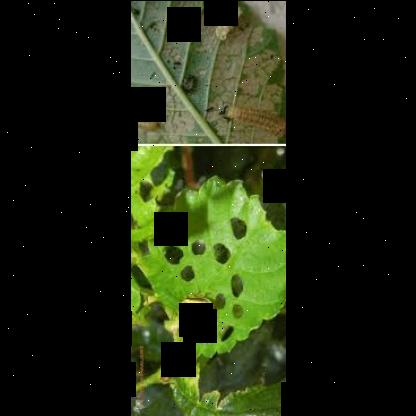agujero: (159, 240, 183, 268), (227, 215, 247, 237), (176, 262, 198, 282), (217, 321, 235, 345), (228, 268, 242, 298), (212, 240, 230, 262), (202, 320, 216, 341), (189, 238, 207, 254), (193, 316, 211, 332), (232, 298, 244, 318), (213, 288, 223, 310), (202, 102, 216, 115), (131, 4, 143, 18), (218, 102, 226, 121), (146, 22, 158, 34), (170, 60, 180, 70), (165, 58, 170, 64)
